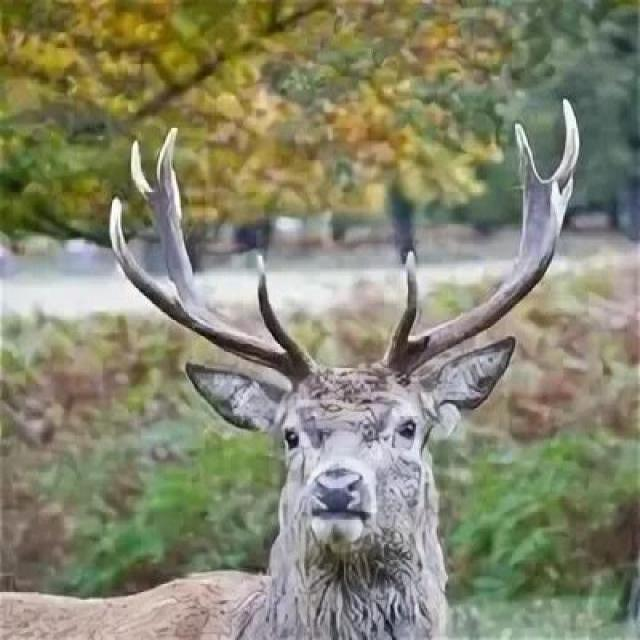deer: (1, 44, 517, 640)
